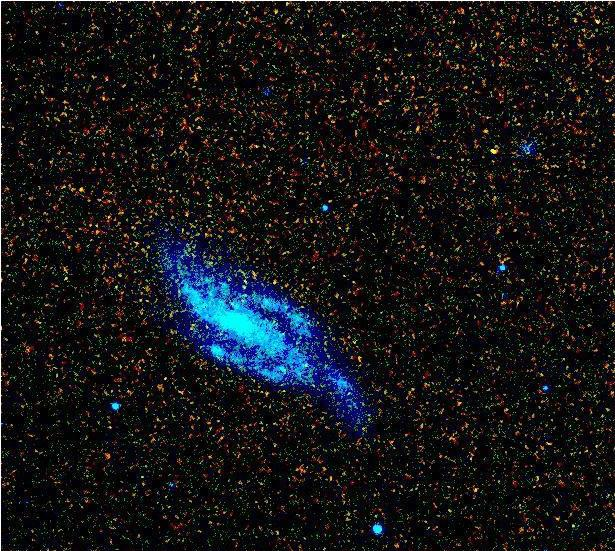star: (482, 136, 512, 166)
